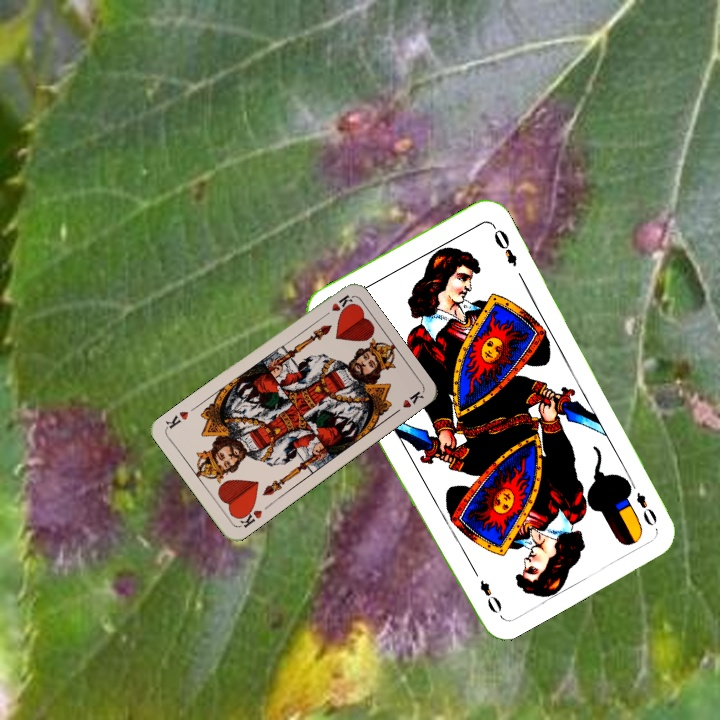EO: (623, 475, 660, 529)
HK: (317, 291, 354, 321), (233, 502, 265, 530)
